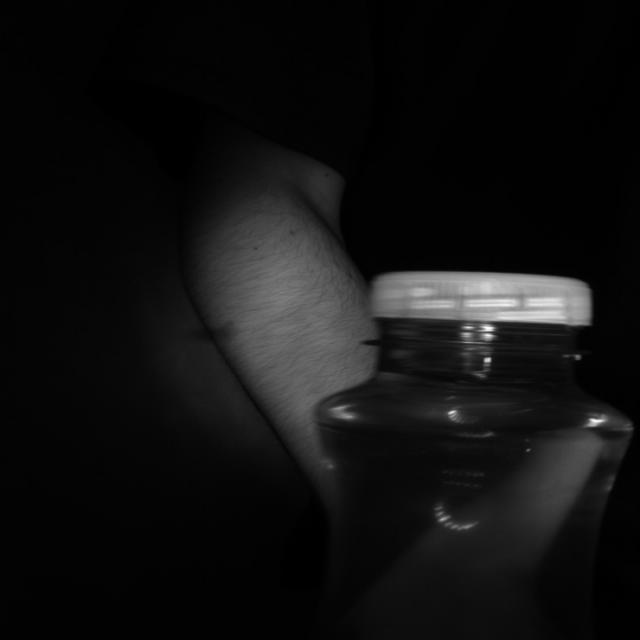Not Good: (369, 270, 591, 357)
